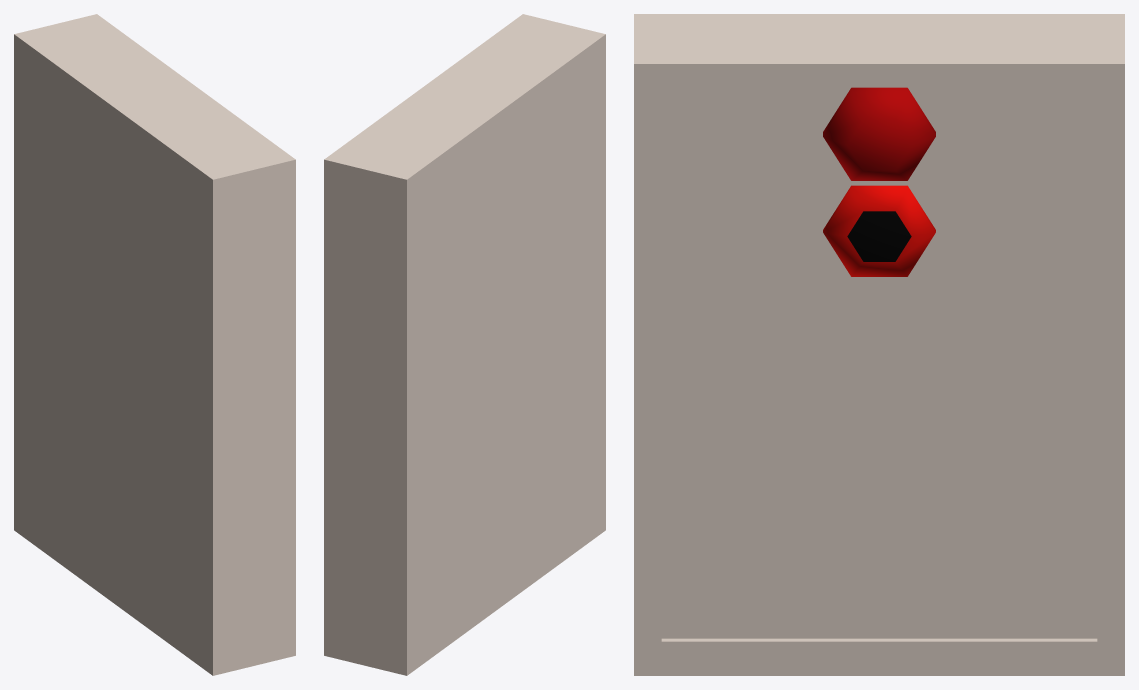
The model's file is syoukasen.fbx.
3 views of the same model, side by side, from view 1: azimuth 30°, elevation 25°; view 2: azimuth 150°, elevation 25°; view 3: azimuth 270°, elevation 25° (orthographic). The views are drawn at different scales.
Visible parts, largest first — view 1: Cube.035; view 2: Cube.035; view 3: Cube.035.
Boxes of the visible parts, x1,y1,x2,y2 form: Cube.035: [14, 14, 295, 675]; Cube.035: [324, 14, 605, 675]; Cube.035: [634, 14, 1124, 675].
Size of the model in its own units: 24.88 by 112 by 81.21.
